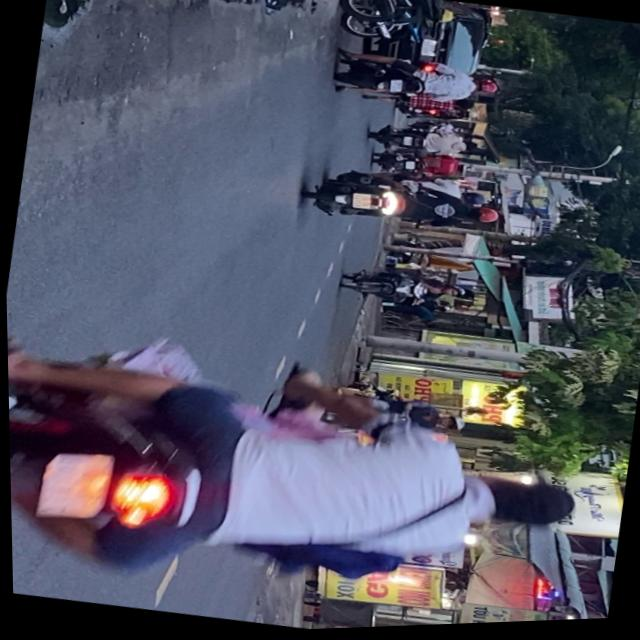helmet: (465, 207, 500, 231), (473, 81, 500, 100)
licenseplate: (6, 300, 599, 640), (301, 161, 505, 247), (331, 44, 504, 121)
motorcyclist: (461, 466, 579, 543)
nohelmet: (35, 446, 113, 526), (352, 194, 372, 212), (389, 82, 404, 96)
